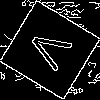V: (25, 25, 81, 78)
